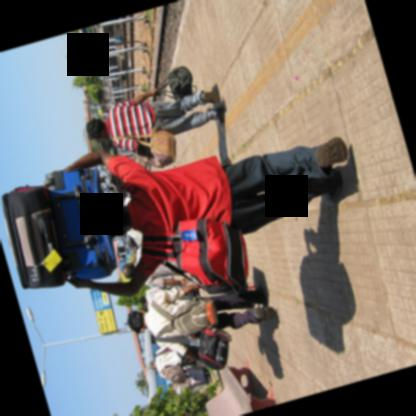backpack: (139, 218, 249, 296), (151, 296, 220, 336), (159, 364, 186, 382)
handbag: (153, 326, 228, 370), (112, 125, 176, 166), (167, 65, 192, 101)
suitcase: (43, 167, 119, 281), (3, 179, 71, 284), (191, 364, 207, 380)
